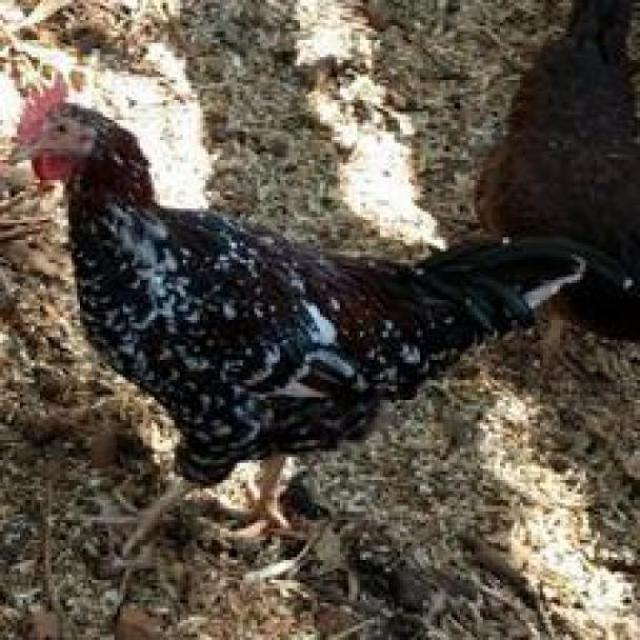Chicken: (0, 82, 586, 554)
